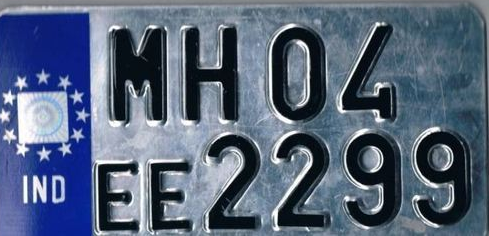0: (261, 22, 327, 123)
2: (268, 130, 331, 229), (200, 131, 262, 230)
4: (337, 21, 398, 122)
9: (411, 126, 472, 228), (341, 127, 400, 231)
E: (143, 157, 197, 234), (91, 159, 143, 234)
H: (178, 23, 241, 123)
M: (109, 25, 169, 126)
